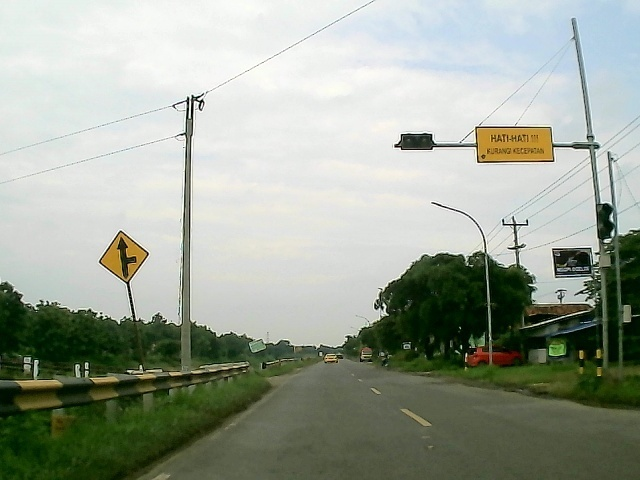Simpang kanan dengan prioritas: (98, 227, 153, 284)
